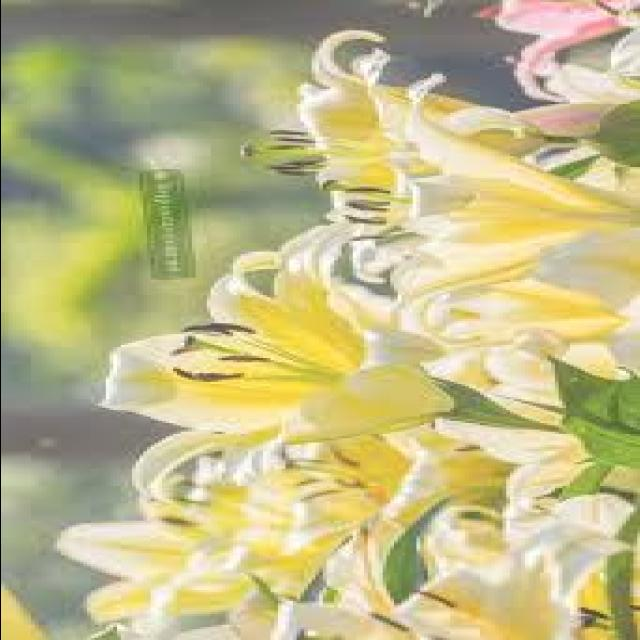lily: (77, 248, 473, 502)
